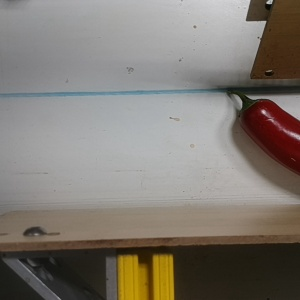Cut Point: (235, 88, 273, 128)
